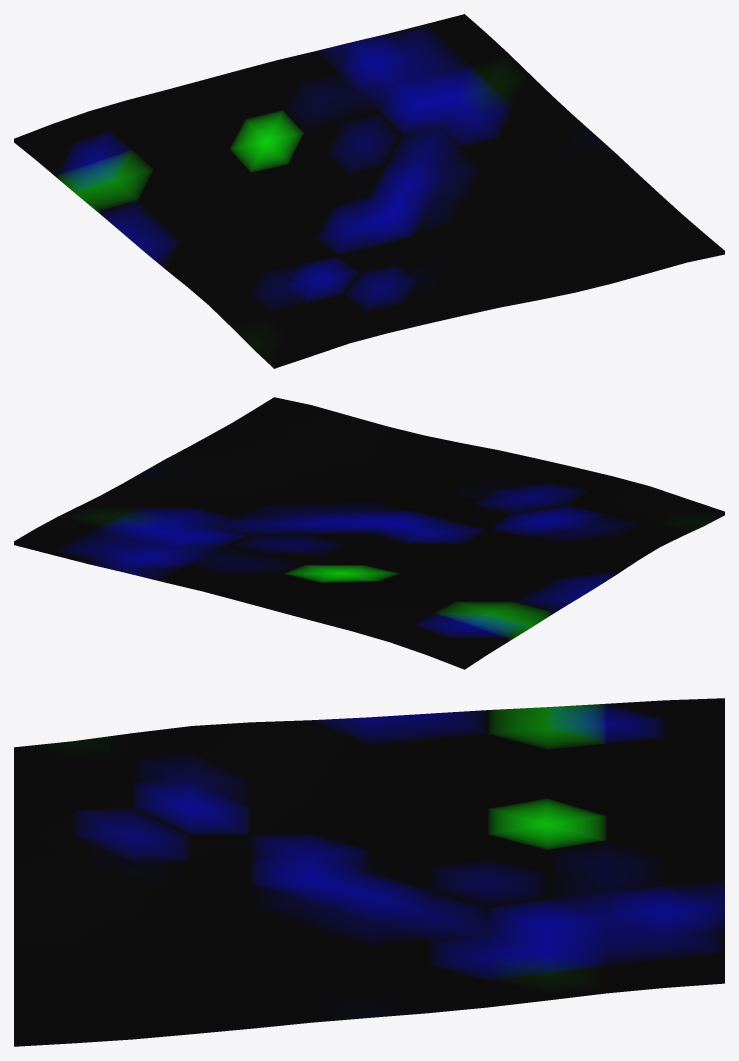
The model's file is coast_6_2.glb.
3 renders of one model, top to bottom at view 1: azimuth 30°, elevation 25°; view 2: azimuth 150°, elevation 25°; view 3: azimuth 270°, elevation 25°, orthographic. The views are drawn at different scales.
Visible parts, largest first — view 1: terrain; view 2: terrain; view 3: terrain.
Part boxes in pixels (bbox=[...]): terrain: bbox=[14, 14, 724, 368]; terrain: bbox=[14, 397, 724, 669]; terrain: bbox=[14, 698, 724, 1046].
Bounding box in the file's own units: 192 × 22.13 × 192.
